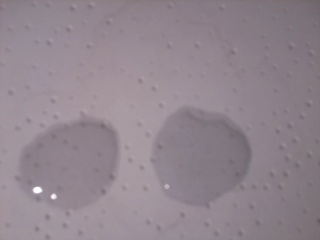Water_detected: (27, 129, 107, 197), (156, 117, 228, 186)
